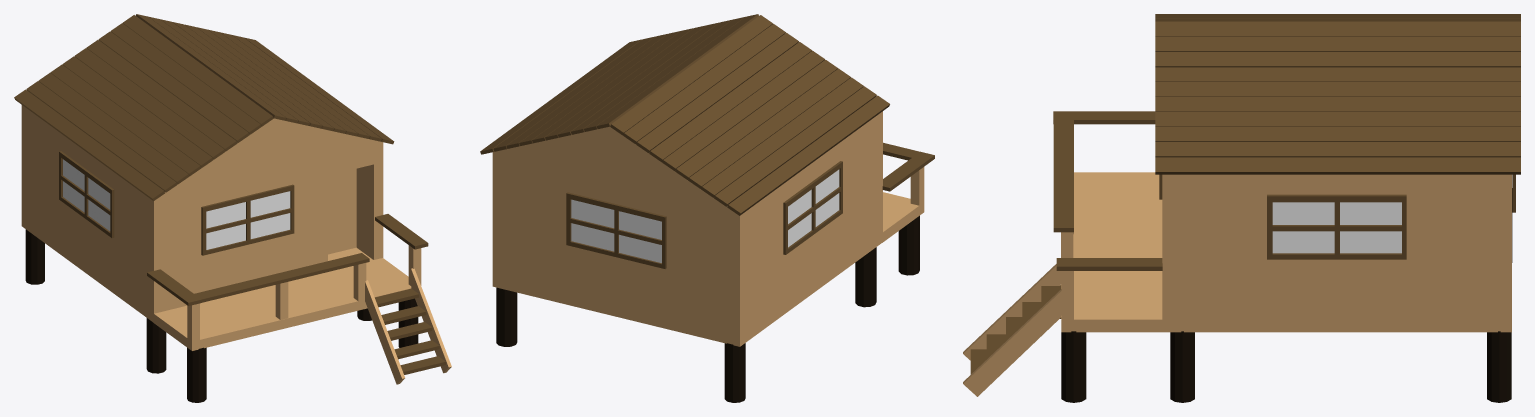
Rendered from Cabin.fbx.
3 renders of one model, left to right at view 1: azimuth 30°, elevation 25°; view 2: azimuth 150°, elevation 25°; view 3: azimuth 270°, elevation 25°, orthographic. The views are drawn at different scales.
Parts seen in each view (by area): view 1: pCylinder5; view 2: pCylinder5; view 3: pCylinder5.
Boxes of the visible parts, box(x1,y1,x2,y2) form: pCylinder5: box(14, 14, 451, 402); pCylinder5: box(480, 14, 934, 402); pCylinder5: box(963, 14, 1520, 402).
Size of the model in its own units: 5.33 by 4.88 by 7.98.
